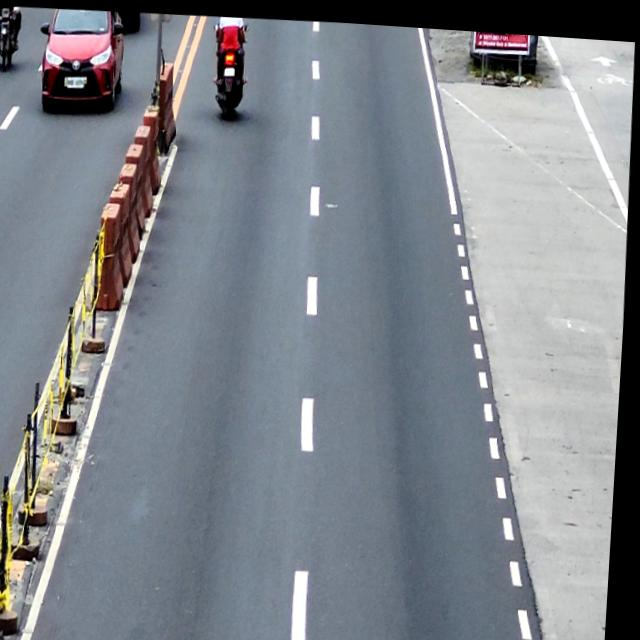Car: (37, 6, 127, 112)
License-Plate: (66, 75, 86, 87), (223, 63, 236, 72)
Motorcycle: (210, 20, 252, 121)
